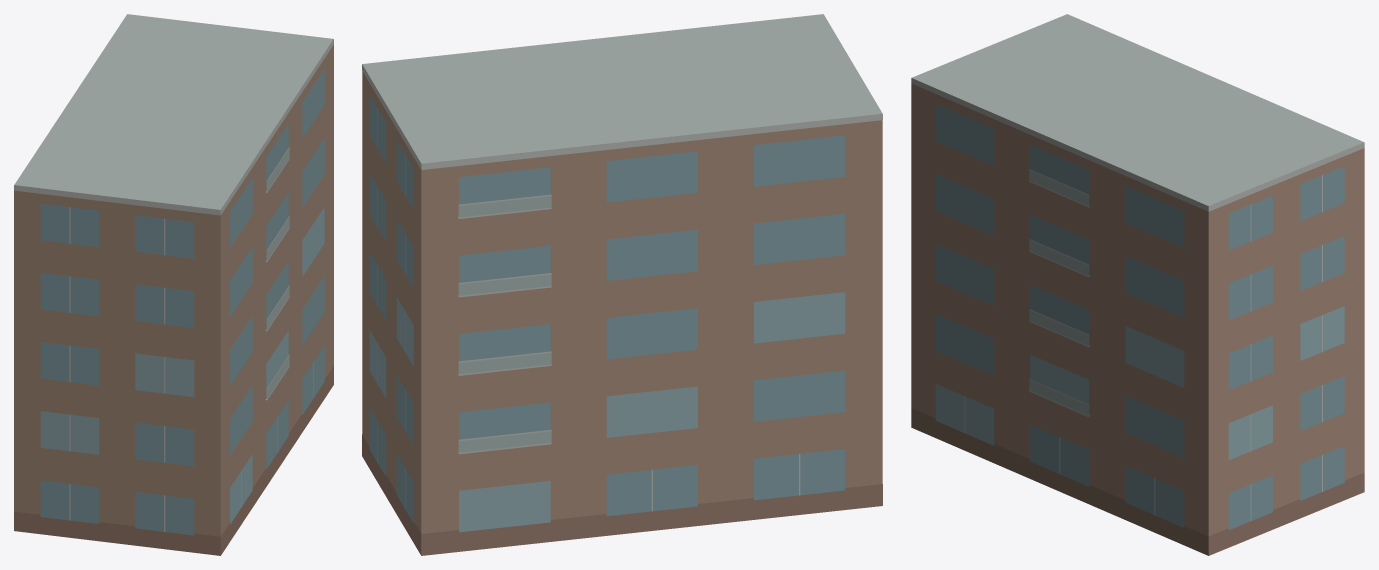
The model's file is survey-upis-33027079.glb.
3 views of the same model, side by side, from view 1: azimuth 30°, elevation 25°; view 2: azimuth 150°, elevation 25°; view 3: azimuth 270°, elevation 25° (orthographic). The views are drawn at different scales.
Visible parts, largest first — view 1: survey-upis-33027079.tmp; view 2: survey-upis-33027079.tmp; view 3: survey-upis-33027079.tmp.
Part boxes in pixels (bbox=[...]): survey-upis-33027079.tmp: bbox=[14, 14, 333, 555]; survey-upis-33027079.tmp: bbox=[362, 14, 882, 555]; survey-upis-33027079.tmp: bbox=[911, 14, 1364, 555].
Bounding box in the file's own units: 17.98 × 15.25 × 17.92.
